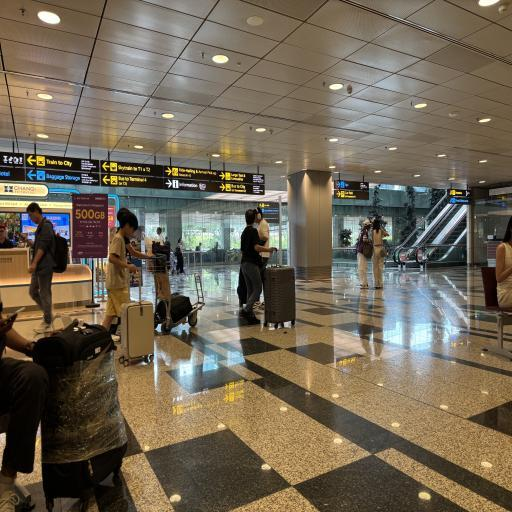person_with_luggage_right: (96, 208, 158, 373), (236, 188, 300, 342)
